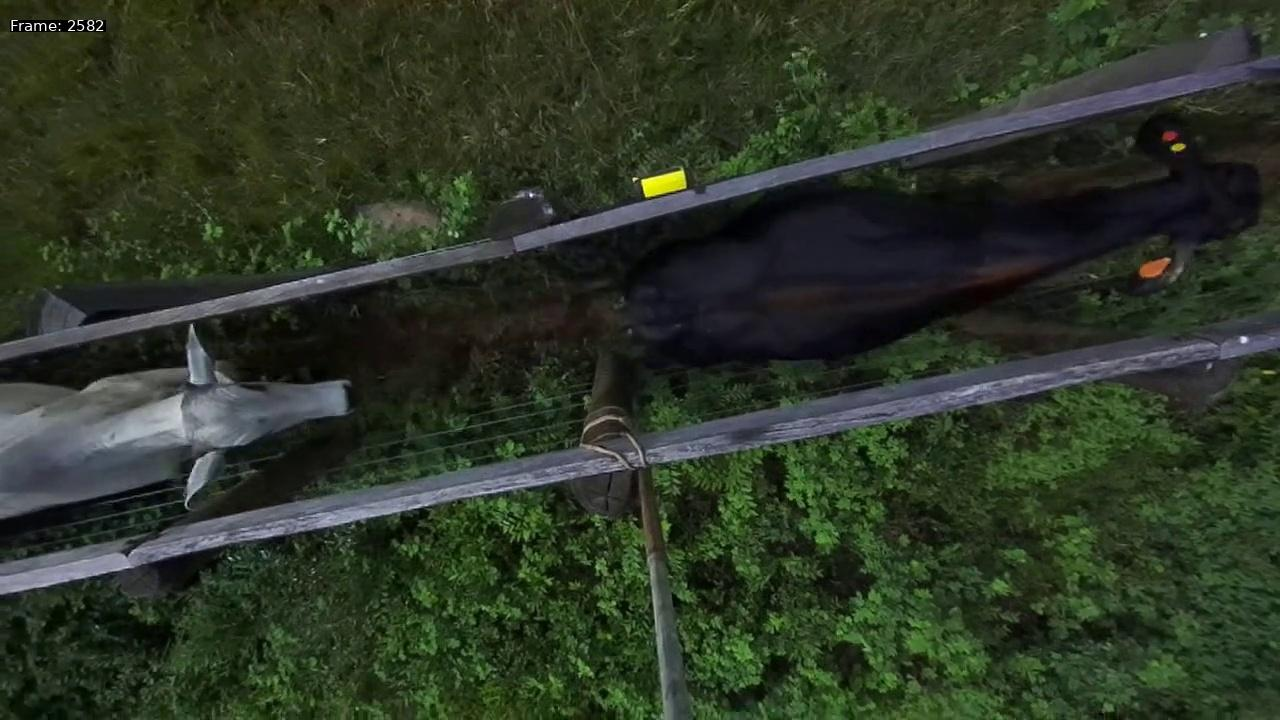cattle: (597, 92, 1269, 382)
